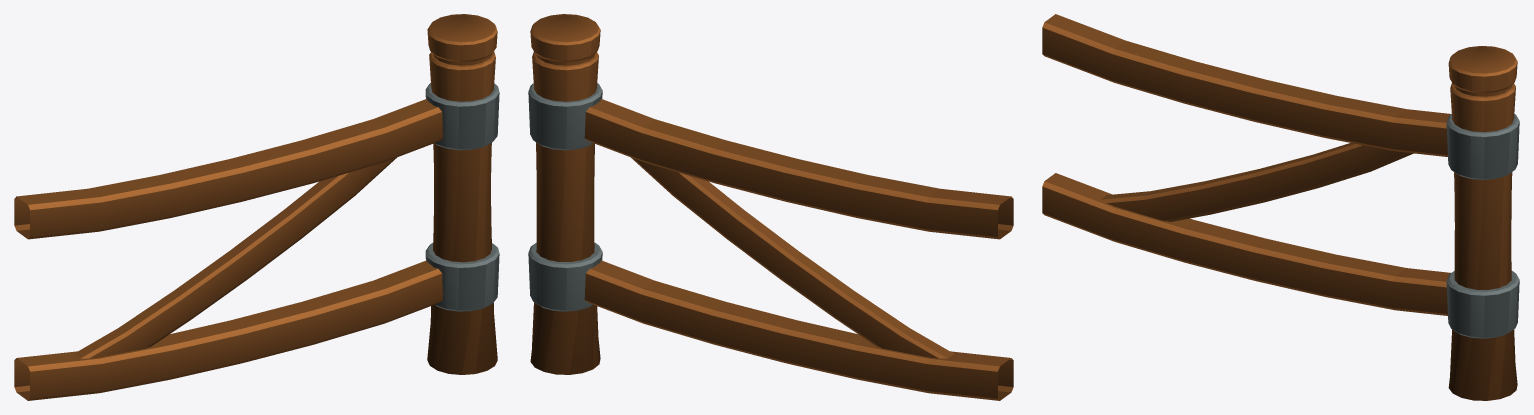
File: Fence-4-2.fbx
The picture shows the model from 3 angles, left to right: view 1: azimuth 30°, elevation 25°; view 2: azimuth 150°, elevation 25°; view 3: azimuth 330°, elevation 25°; orthographic projection.
Visible parts, largest first — view 1: Fence-4-2; view 2: Fence-4-2; view 3: Fence-4-2.
Part boxes in pixels (bbox=[...]): Fence-4-2: bbox=[14, 14, 499, 400]; Fence-4-2: bbox=[528, 14, 1013, 400]; Fence-4-2: bbox=[1042, 14, 1519, 400].
Size of the model in its own units: 226 by 158 by 30.38.
